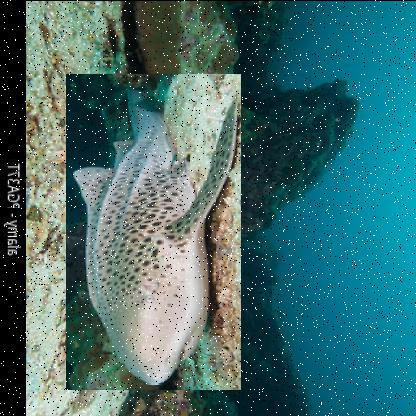zebra_shark: (65, 72, 241, 389)
